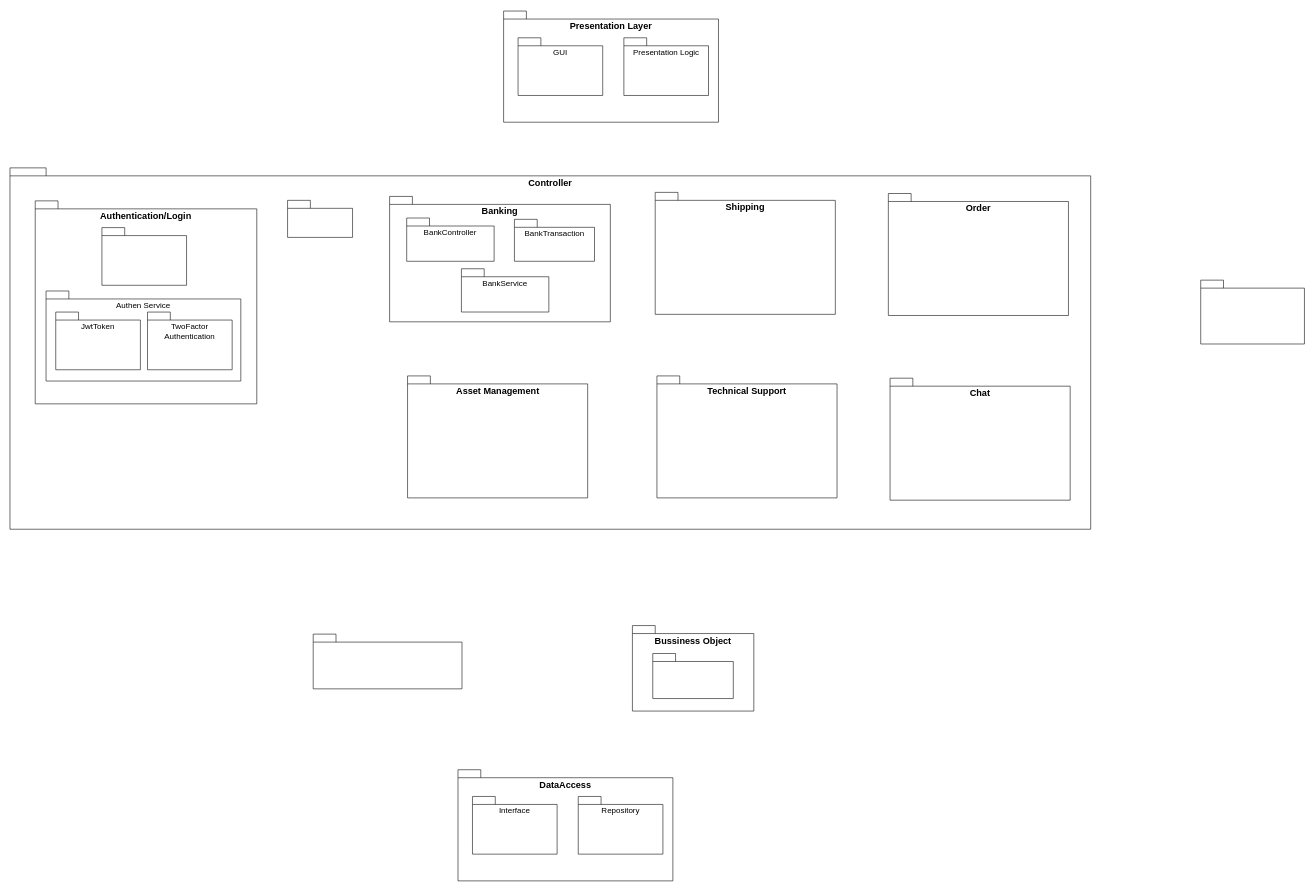
Image size: 1314x891. Some labels were removed from this diagram. Here are the shapes that lost their labels. From the top down, the centre of each, then its label:
At point (320, 218): "Mail Service".
At point (144, 256): "Authentication (User) Controller".
At point (1252, 312): "Image Service".
At point (387, 661): "Data Tranfer Object".
At point (692, 676): "Entity".
